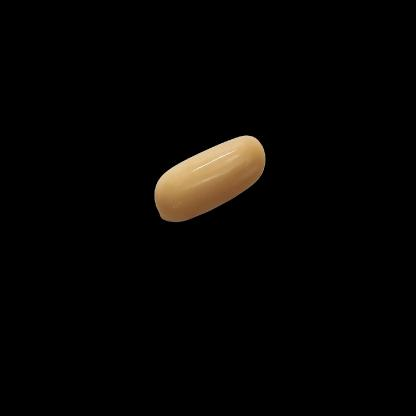t-muse: (144, 110, 276, 244)
